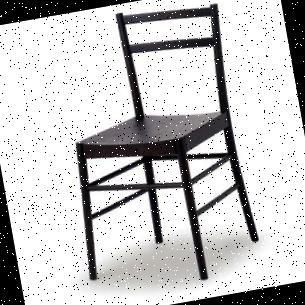Silla: (46, 0, 265, 303)
